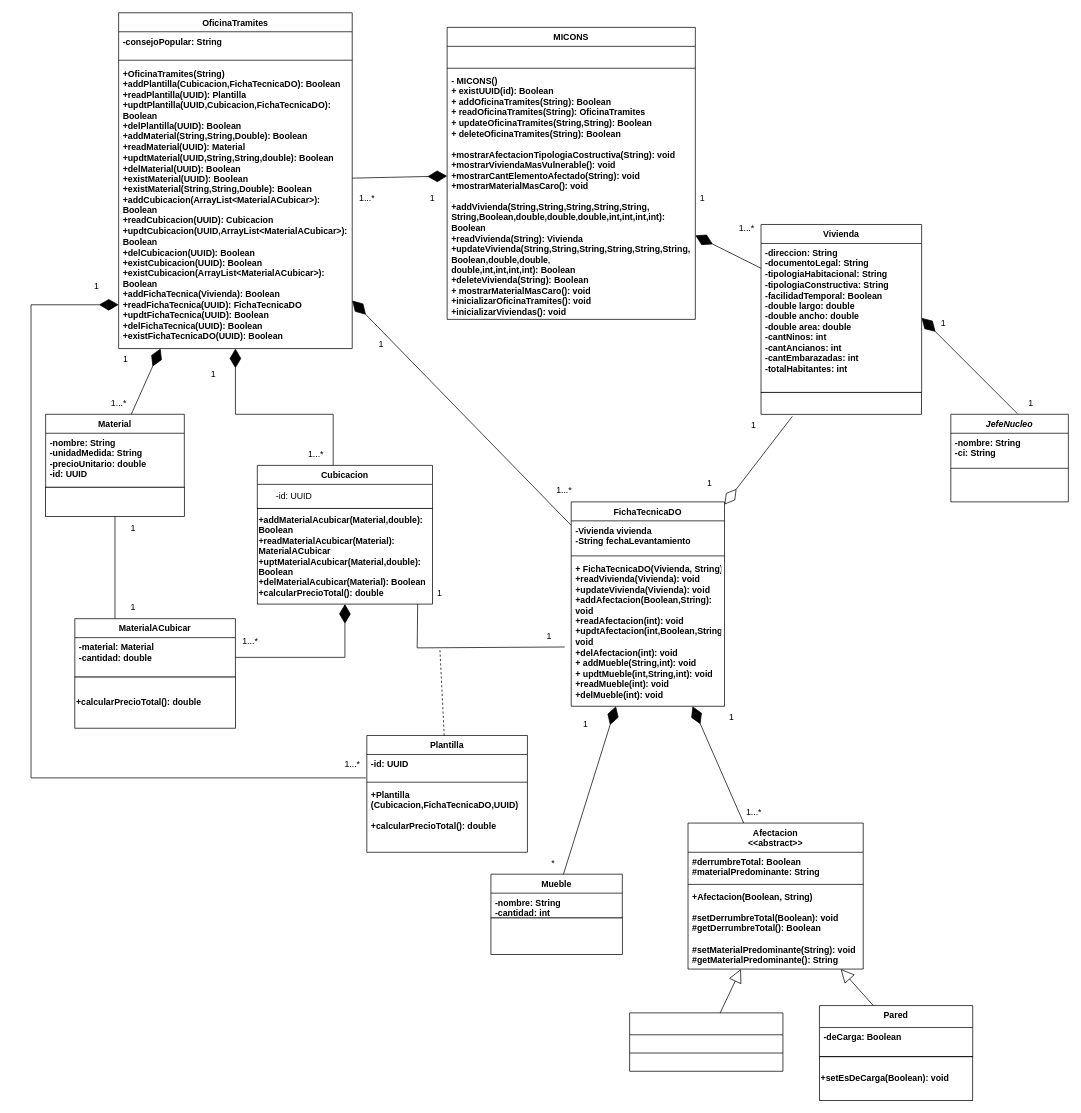
This 1081x1113 diagram has some shape labels left out. The centre of each missing label's shape, as x and y in pixels:
"+createJefeN(String,String): void" goes at point (841, 403).
"+Material(String,String,double)" goes at point (114, 501).
"Techo" goes at point (706, 1041).
